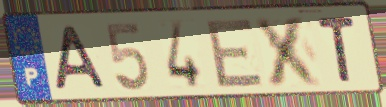4: (163, 18, 206, 91)
5: (104, 19, 151, 93)
A: (53, 23, 110, 93)
E: (204, 16, 267, 90)
T: (314, 14, 359, 85)
X: (251, 13, 326, 88)
